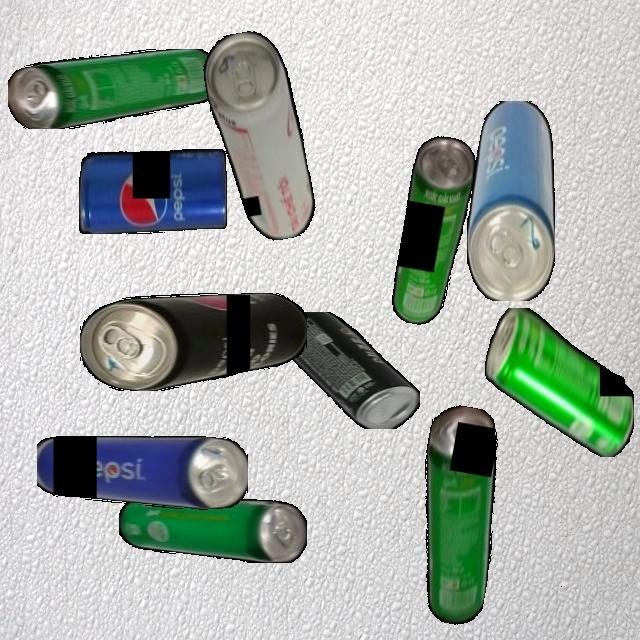debris: (198, 26, 320, 247), (398, 402, 516, 628), (484, 307, 634, 457), (80, 292, 307, 391), (387, 133, 480, 329), (466, 100, 555, 301), (8, 48, 220, 129), (276, 311, 420, 429), (36, 436, 248, 510), (78, 148, 227, 234), (118, 496, 307, 563)
